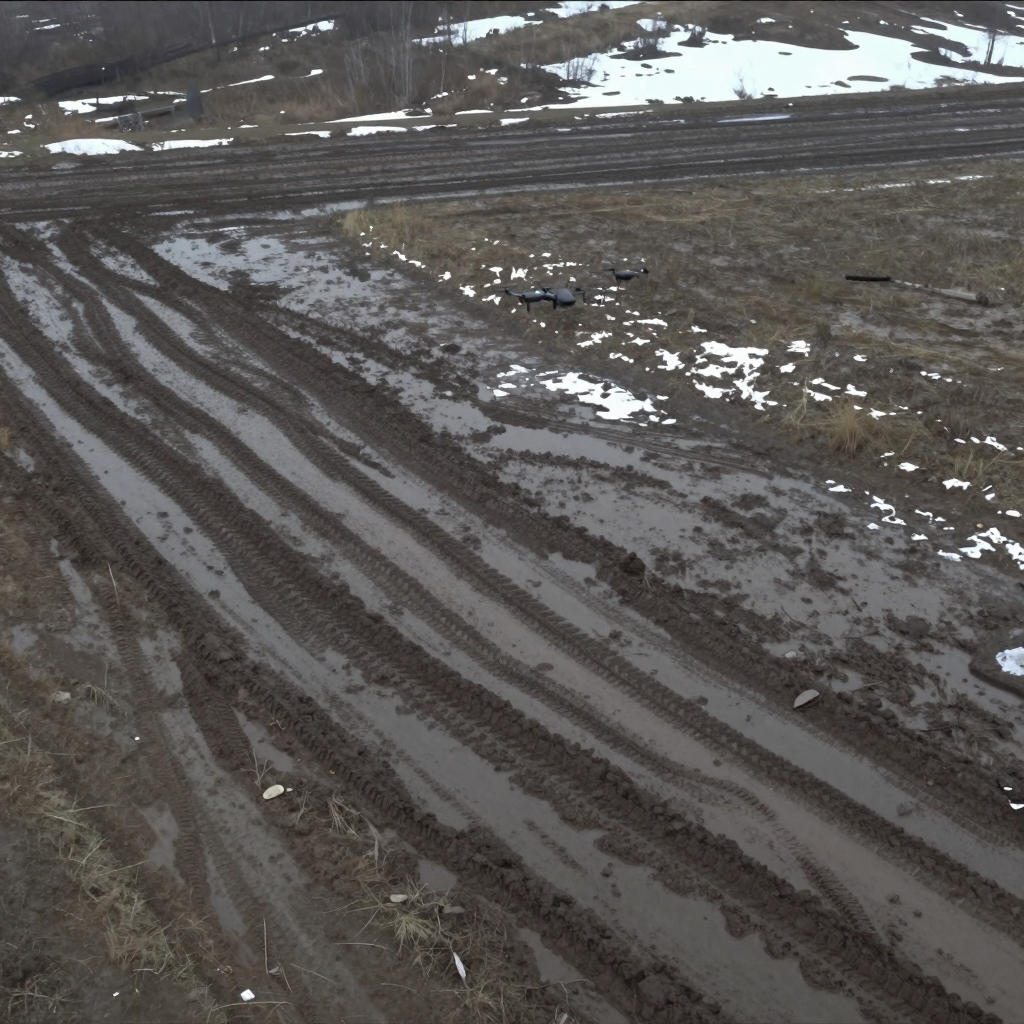drone: (502, 272, 594, 313), (596, 255, 653, 289)
